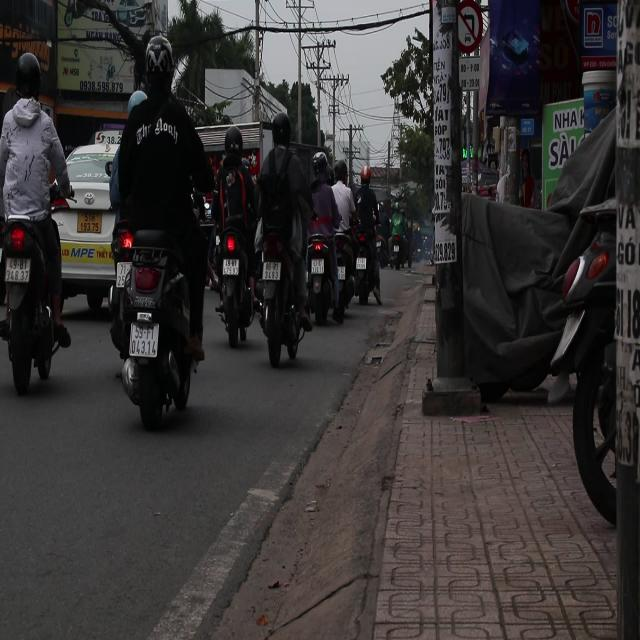motorbike: (106, 216, 202, 425), (252, 175, 313, 367), (54, 141, 121, 314), (302, 215, 351, 328), (219, 219, 249, 359), (352, 190, 384, 308), (332, 218, 362, 321)
